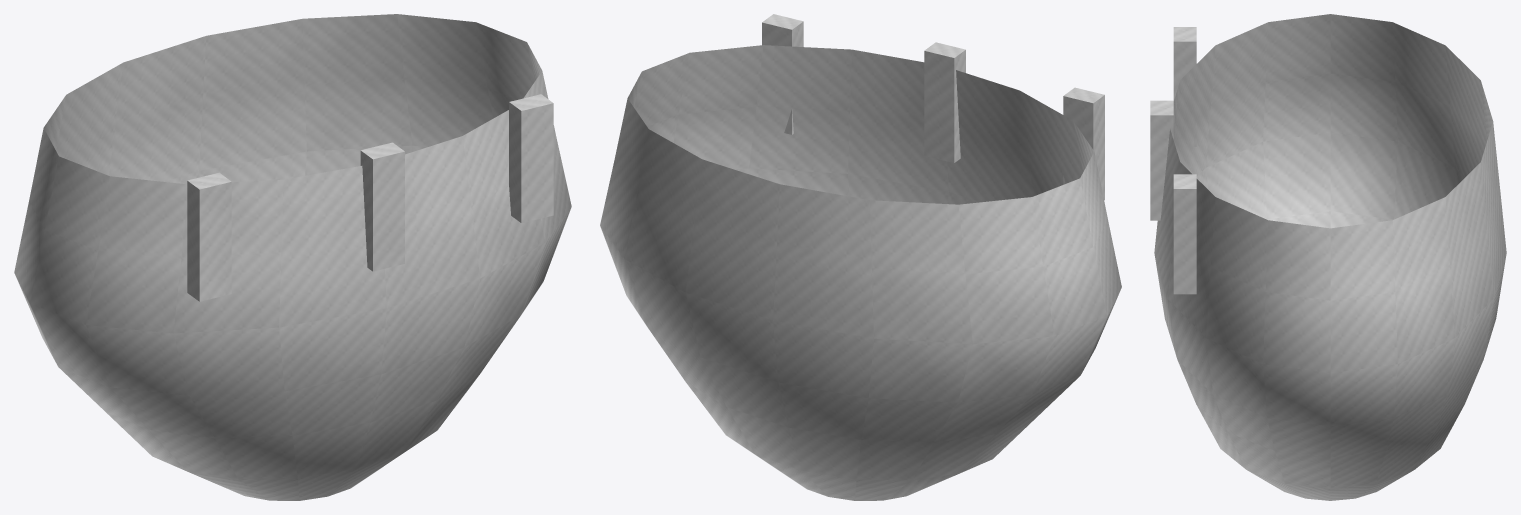
File: pants_cargo_hips_m.glb
3 renders of one model, left to right at view 1: azimuth 30°, elevation 25°; view 2: azimuth 150°, elevation 25°; view 3: azimuth 270°, elevation 25°, orthographic. The views are drawn at different scales.
Visible parts, largest first — view 1: pants_cargo_hips_m; view 2: pants_cargo_hips_m; view 3: pants_cargo_hips_m.
Part boxes in pixels (x1,y1,x2,y2): pants_cargo_hips_m: (14,14,571,500); pants_cargo_hips_m: (600,14,1121,500); pants_cargo_hips_m: (1150,14,1506,500).
Bounding box in the file's own units: 0.392 × 0.275 × 0.2452.
Materials: 1 (1 with a texture image).
